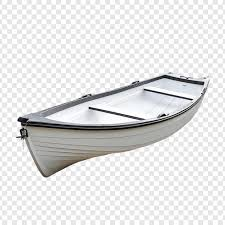boat: (16, 70, 210, 176)
